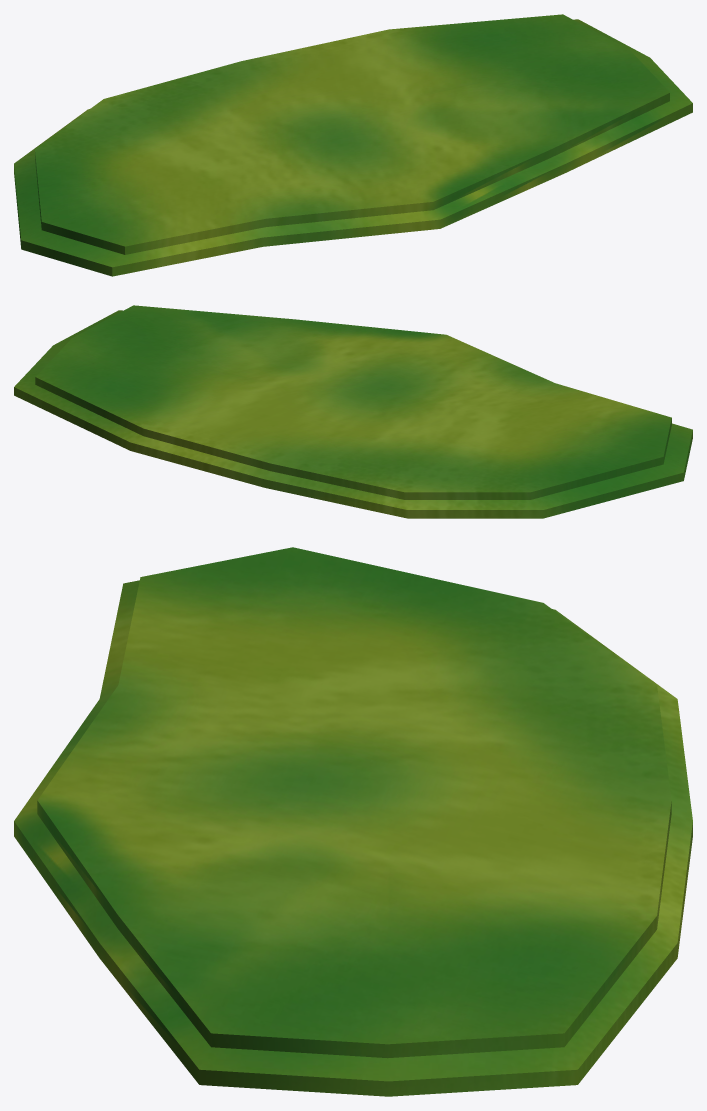
Rendered from platform.fbx.
The picture shows the model from 3 angles, top to bottom: view 1: azimuth 30°, elevation 25°; view 2: azimuth 150°, elevation 25°; view 3: azimuth 270°, elevation 25°; orthographic projection. The views are drawn at different scales.
Visible parts, largest first — view 1: cylinder; view 2: cylinder; view 3: cylinder.
Boxes of the visible parts, x1,y1,x2,y2 form: cylinder: (14,14,692,276); cylinder: (14,305,692,518); cylinder: (14,547,692,1096).
Bounding box in the file's own units: 156 × 6.82 × 84.43.
